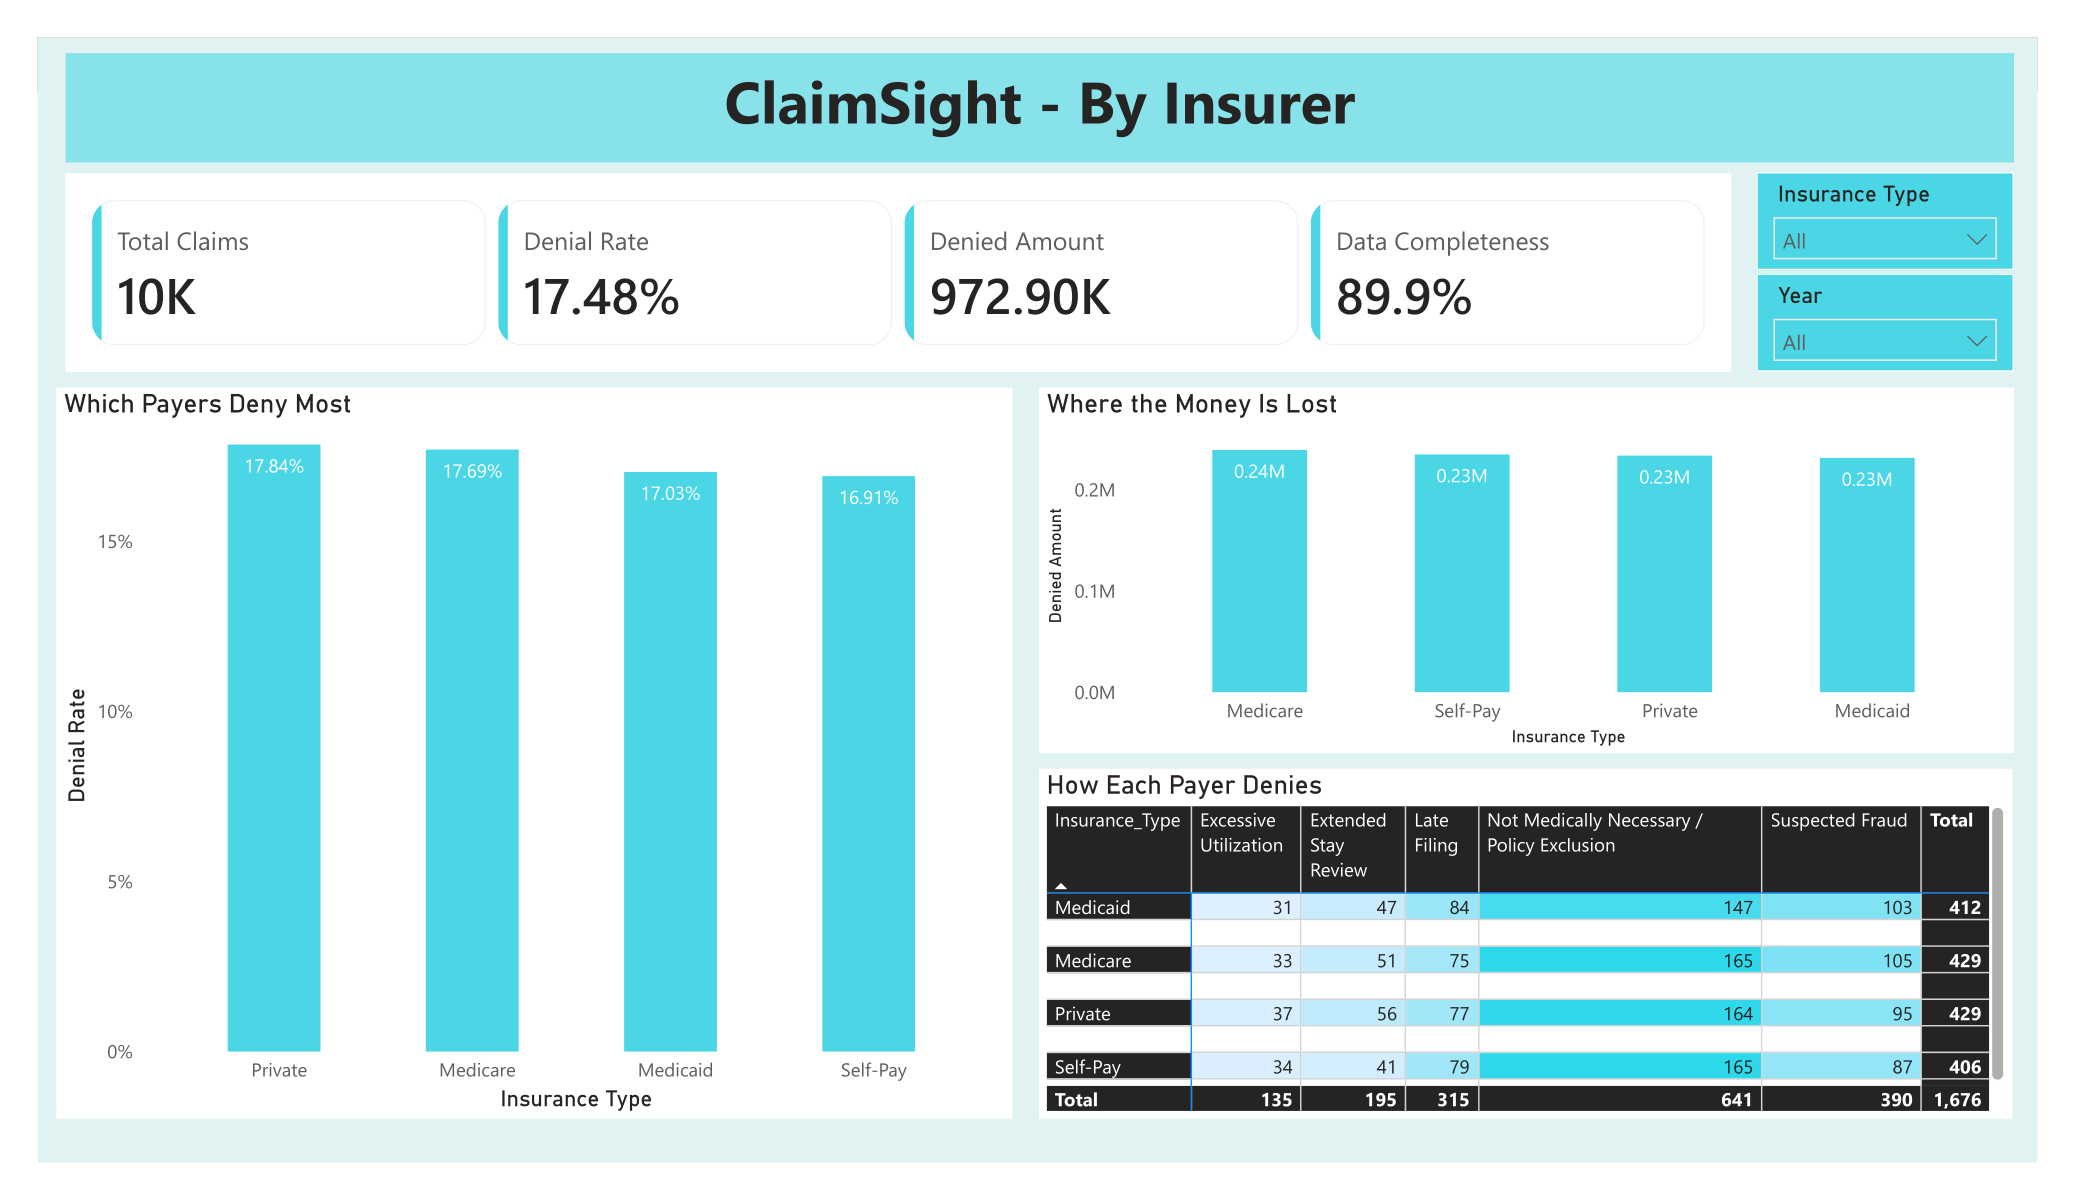

Layout of this report page (visuals, bound fields, positions):
{"tool":"powerbi","page":{"name":"By Insurer","canvas":[1280,720],"ordinal":1},"visuals":[{"type":"clusteredColumnChart","title":"Which Payers Deny Most","fields":{"Category":["claims.Insurance_Type"],"Y":["claims.Denial Rate"]},"box":[11.7,223.7,612,468],"z":0},{"type":"slicer","fields":{"Values":["claims.Insurance_Type"]},"box":[1100.2,86.2,164.9,62.8],"z":1000},{"type":"slicer","fields":{"Values":["DateTable.Year"]},"box":[1100.2,151.1,164.9,62.8],"z":2000},{"type":"clusteredColumnChart","title":"Where the Money Is Lost","fields":{"Category":["claims.Insurance_Type"],"Y":["Sum(claims.Denied_Amount)"]},"box":[641,223.7,624.4,234],"z":3000},{"type":"textbox","box":[17.5,9.7,1247.9,70],"z":4000},{"type":"cardVisual","fields":{"Data":["claims.Total Claims","claims.Denial Rate","Sum(claims.Denied_Amount)","claims.Data Completeness"]},"box":[17.5,86.6,1066,127.4],"z":5000},{"type":"pivotTable","title":"How Each Payer Denies","fields":{"Columns":["claims.Denial_Reason"],"Rows":["claims.Insurance_Type"],"Values":["claims.Total Claims"]},"box":[641,467.8,623.5,223.7],"z":6000}]}

Visuals, with their boxes on the page's 1280x720 design canvas (x1, y1, x2, y2). These are canvas units, not pixel positions in the 2075x1200 screenshot, which may show the page scaled, cropped or inside an application window:
"Which Payers Deny Most" clusteredColumnChart: region(12, 224, 624, 692)
slicer - claims.Insurance_Type: region(1100, 86, 1265, 149)
slicer - DateTable.Year: region(1100, 151, 1265, 214)
"Where the Money Is Lost" clusteredColumnChart: region(641, 224, 1265, 458)
textbox: region(18, 10, 1265, 80)
cardVisual - claims.Total Claims x claims.Denial Rate: region(18, 87, 1084, 214)
"How Each Payer Denies" pivotTable: region(641, 468, 1264, 692)
